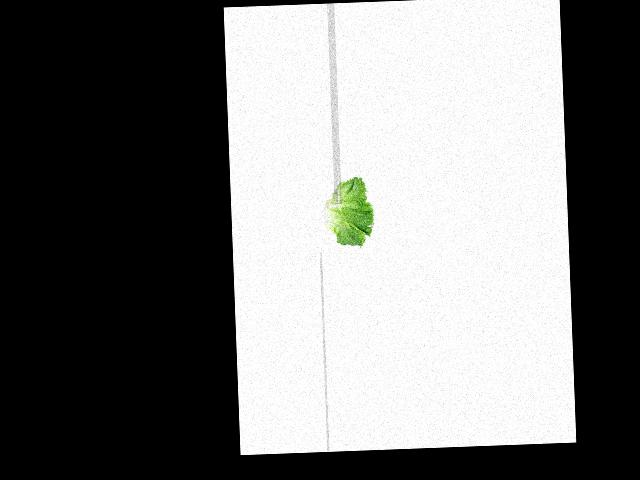lettuce: (321, 179, 374, 248)
